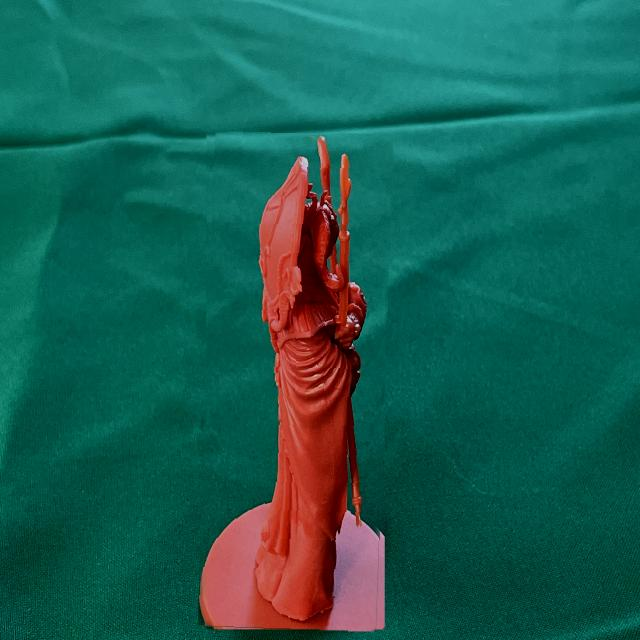amon: (202, 132, 389, 630)
